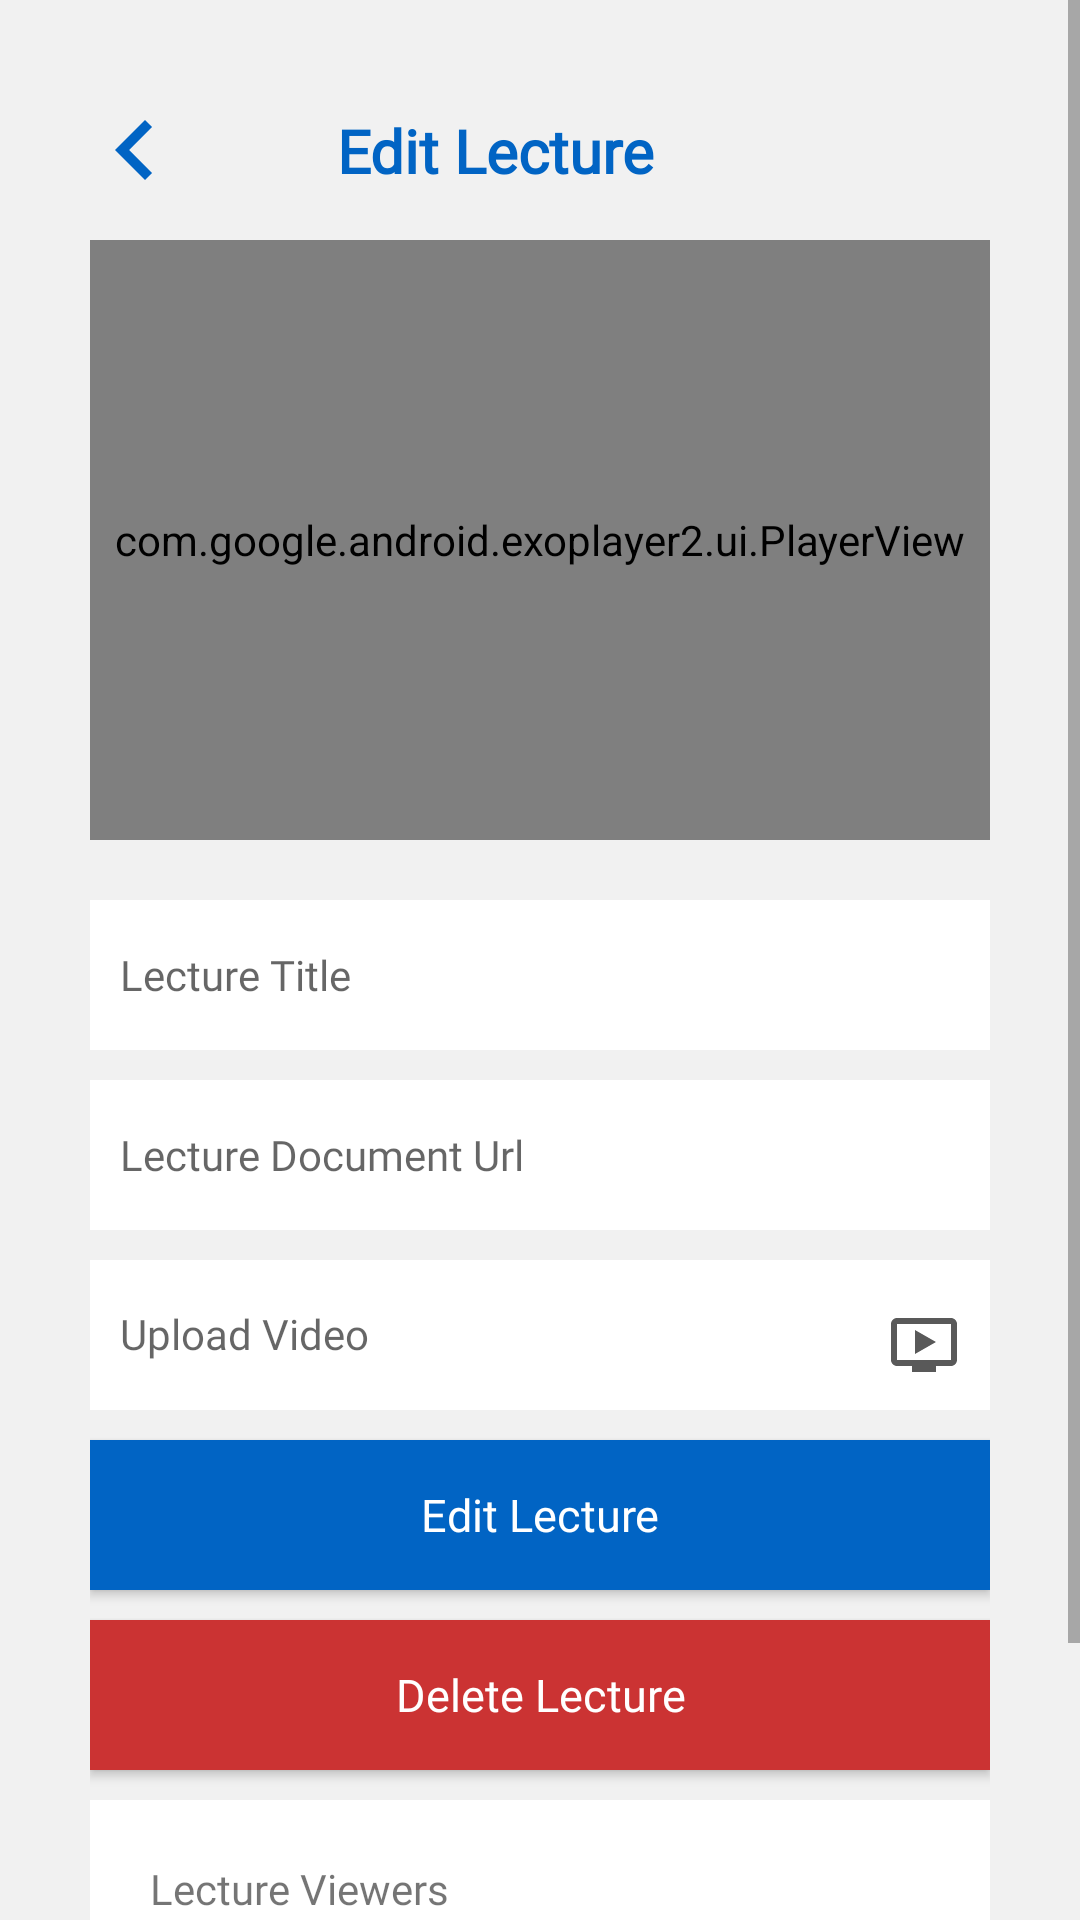

Named icons in this screenshot (1080px×1920px) and their bounding boxes, box=[x1, y1, x2, y2]:
left: box=[115, 120, 152, 180]
